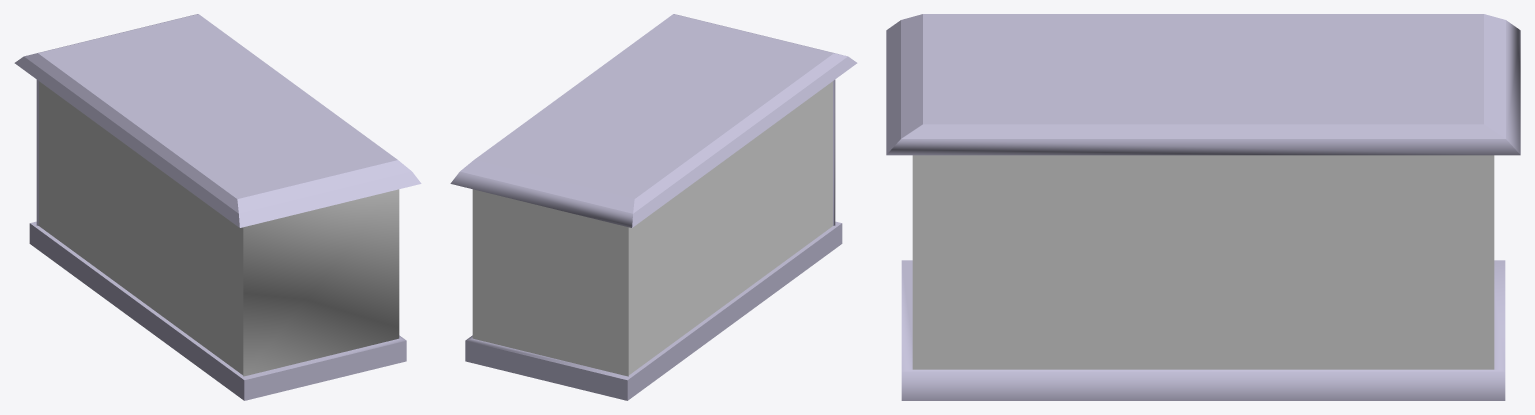
File: FishTank.fbx
The picture shows the model from 3 angles, left to right: view 1: azimuth 30°, elevation 25°; view 2: azimuth 150°, elevation 25°; view 3: azimuth 270°, elevation 25°; orthographic projection. The views are drawn at different scales.
Visible parts, largest first — view 1: Fishtank; view 2: Fishtank; view 3: Fishtank.
Part boxes in pixels (box(x1,y1,x2,y2)): Fishtank: box(14, 14, 421, 400); Fishtank: box(450, 14, 857, 400); Fishtank: box(886, 14, 1520, 400).
Bounding box in the file's own units: 57.02 × 58.78 × 123.
